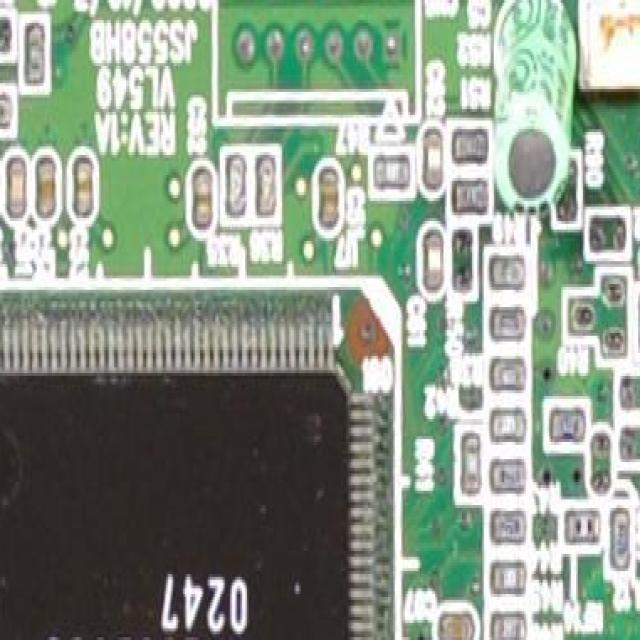capacitor: (501, 106, 566, 210), (424, 126, 444, 195), (192, 167, 212, 230), (424, 230, 444, 292), (8, 155, 26, 221), (37, 161, 57, 218), (72, 161, 92, 218), (321, 172, 339, 230), (438, 614, 477, 640)
resistor: (588, 216, 630, 256), (448, 224, 474, 284), (225, 155, 249, 215), (255, 155, 277, 218), (489, 255, 527, 290), (490, 508, 528, 542), (26, 23, 46, 86), (593, 425, 610, 499), (566, 508, 600, 545), (487, 307, 526, 339), (490, 410, 526, 442), (450, 184, 487, 215), (457, 126, 487, 164), (492, 359, 528, 390), (490, 560, 526, 591), (464, 436, 482, 494), (492, 462, 524, 494), (374, 161, 410, 189), (489, 614, 527, 640), (620, 419, 640, 468), (570, 152, 584, 221), (551, 411, 585, 439), (618, 370, 640, 413), (0, 17, 13, 54), (0, 94, 13, 129)
